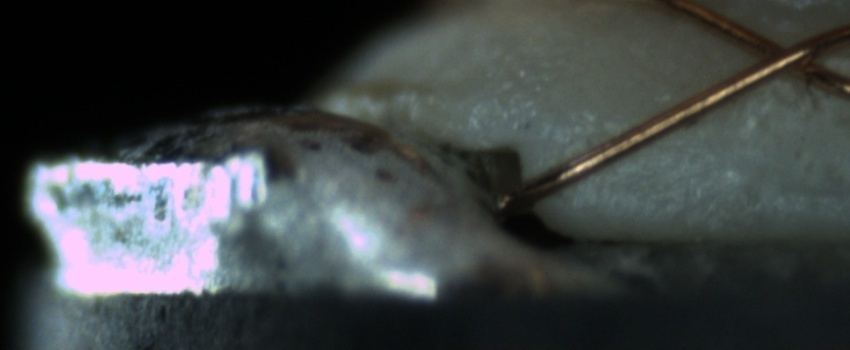CL: (729, 23, 832, 89)
